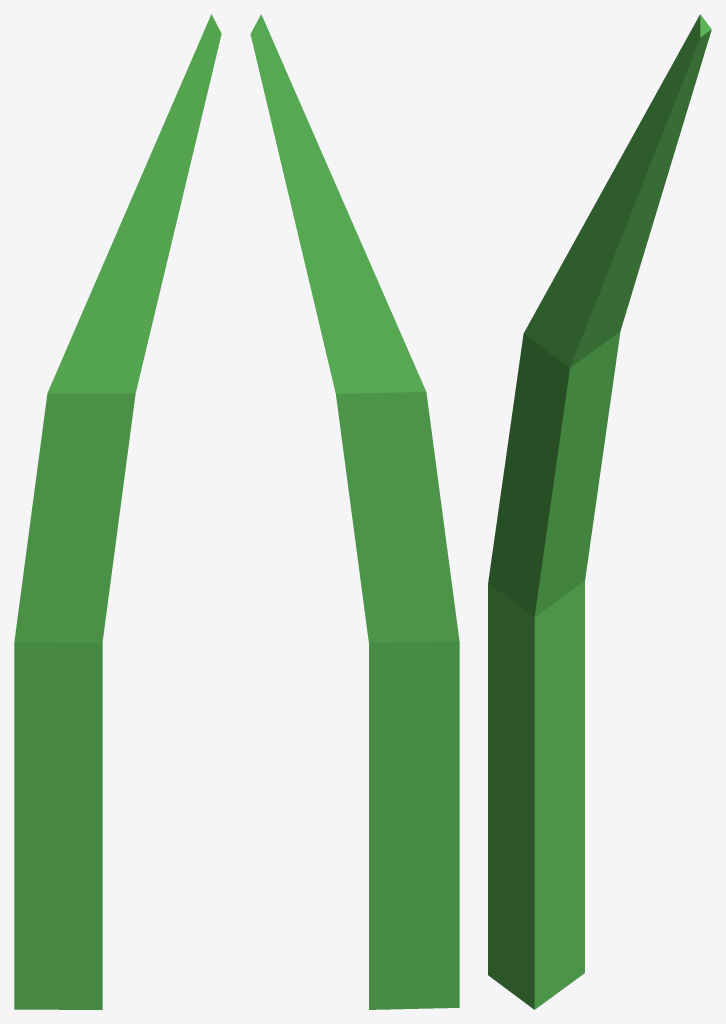
File: blade2.glb
3 views of the same model, side by side, from view 1: azimuth 30°, elevation 25°; view 2: azimuth 150°, elevation 25°; view 3: azimuth 330°, elevation 25° (orthographic). The views are drawn at different scales.
Visible parts, largest first — view 1: 2; view 2: 2; view 3: 2.
Part boxes in pixels (x1,y1,x2,y2): 2: [14, 14, 221, 1009]; 2: [250, 14, 459, 1009]; 2: [488, 14, 711, 1009].
Bounding box in the file's own units: 0.1294 × 0.5767 × 0.0521.
